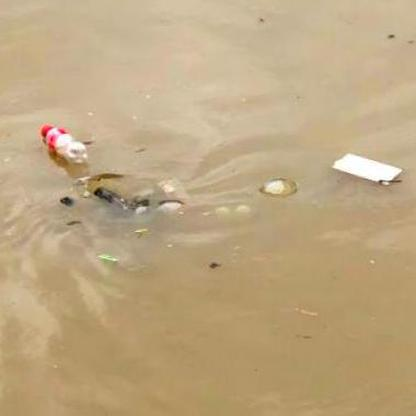foam: (331, 153, 403, 185)
plastic bottle: (41, 124, 88, 164)
